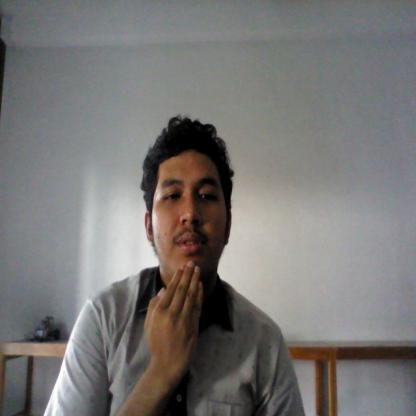Selamat-Terimakasih: (142, 257, 206, 398)
